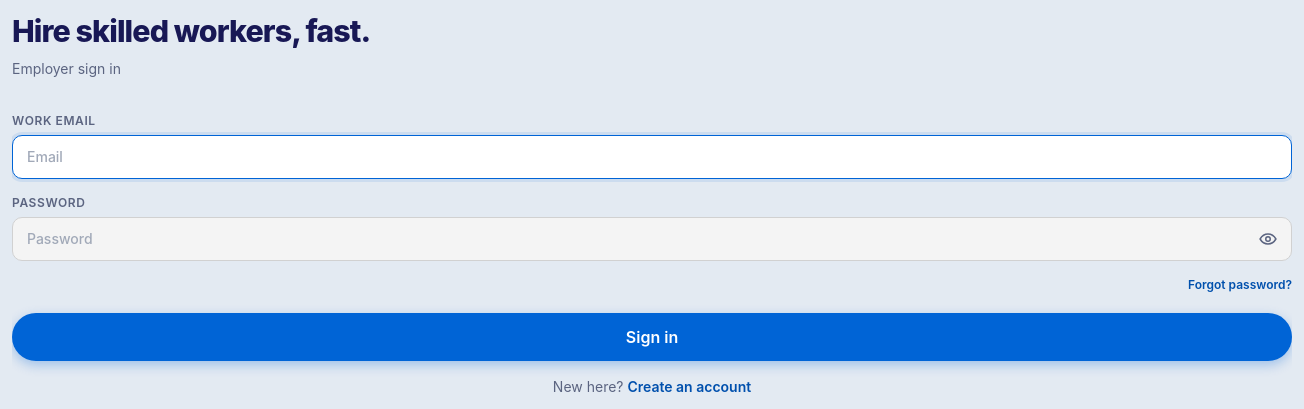
Test: EmployerAuthForm — login step recovery affordances › keeps the confirmation-code link on the forgot-password step
Step 1. Click the button "Forgot password?" → (1240, 285), box [1188,277,1292,293]
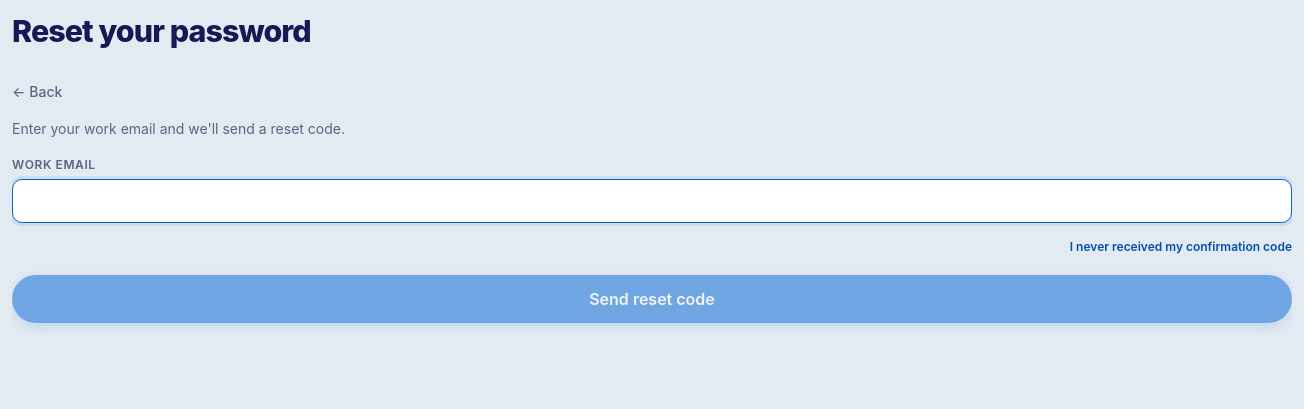
Now the heading "Reset your password" is shown, box [12,13,311,49]
Now the button "I never received my confirmation code" is shown, box [1070,239,1292,255]
